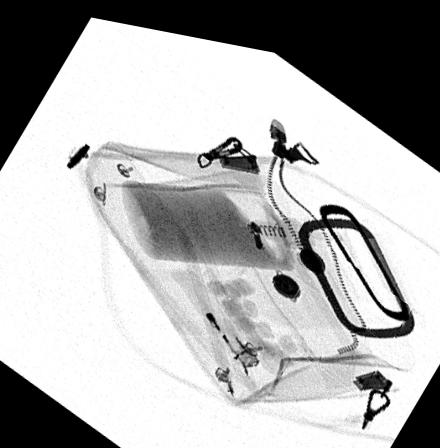Lighter: (169, 261, 261, 358)
